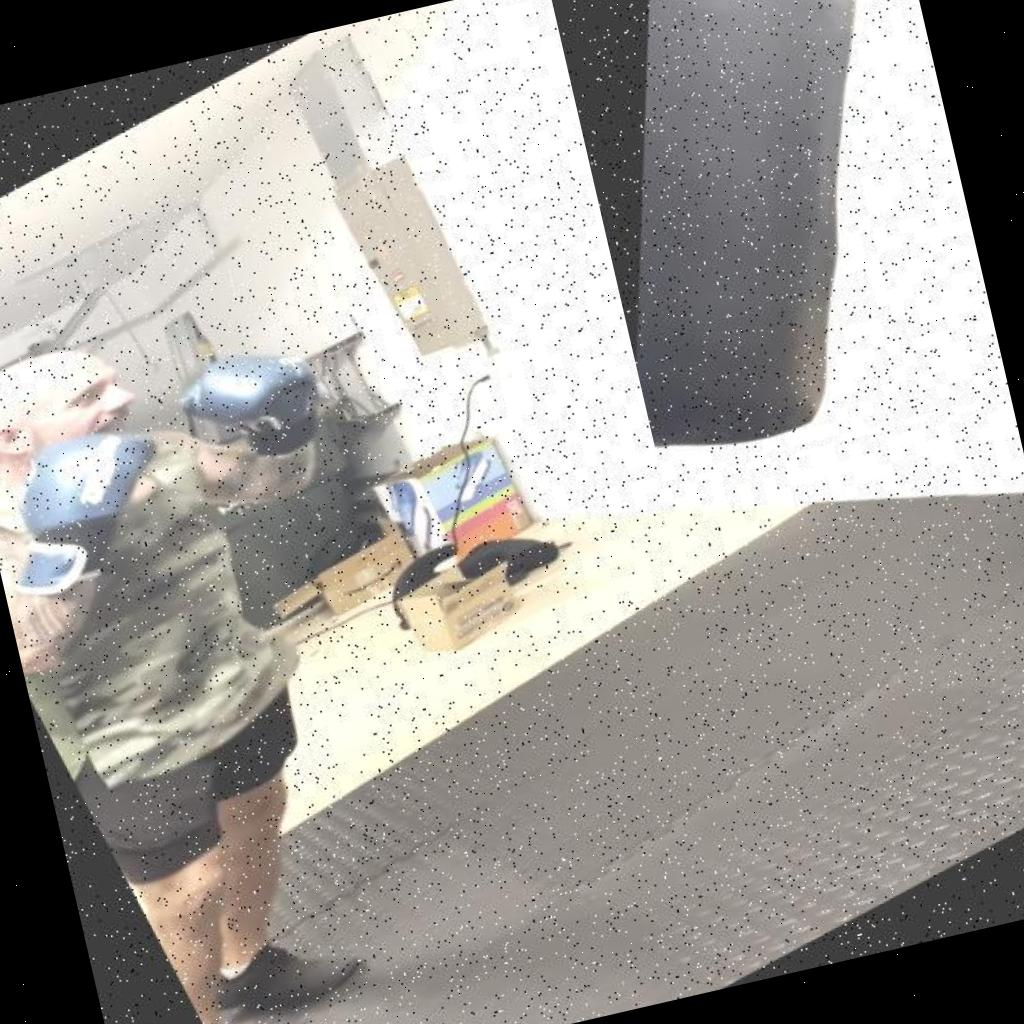bag: (547, 0, 1012, 482)
no punch: (0, 206, 385, 675)
